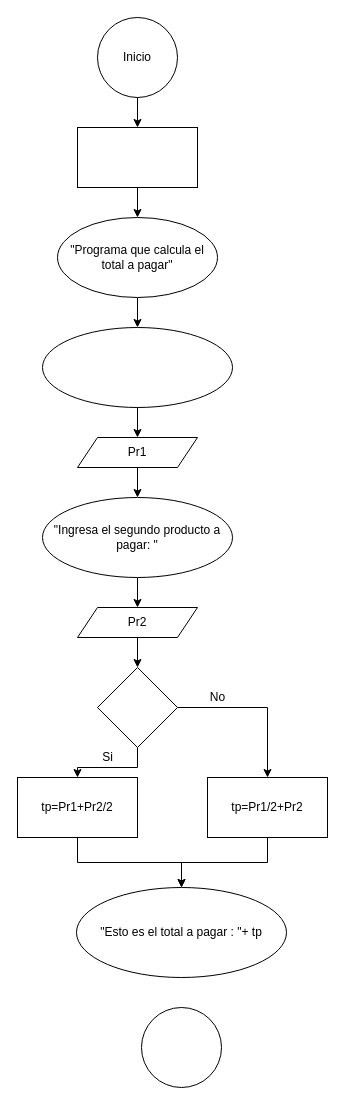
Some shapes in this 345 by 1105 pixel diagram are drawn without their labels. Here are the shapes that lost their labels. From the top down, the box of each, then its label:
(76, 126, 198, 188): tp=0.0 Pr1=0 Pr2=0
(42, 326, 232, 408): "Ingresa el primer producto a pagar: "
(96, 666, 178, 748): Pr1>Pr2
(140, 1006, 222, 1088): Fin
